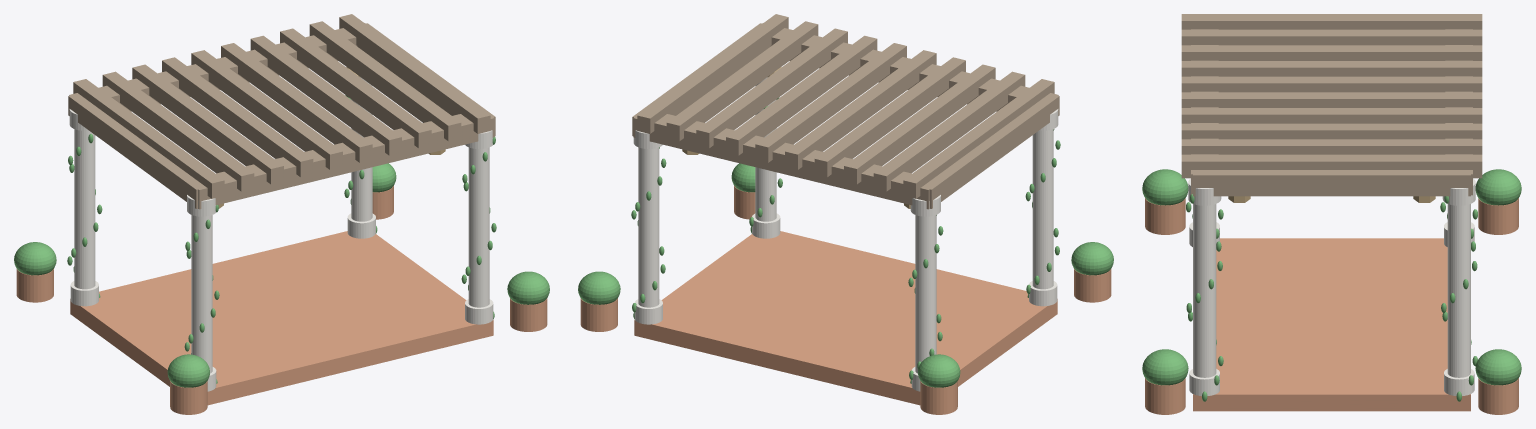
The picture shows the model from 3 angles, left to right: view 1: azimuth 30°, elevation 25°; view 2: azimuth 150°, elevation 25°; view 3: azimuth 270°, elevation 25°; orthographic projection. The views are drawn at different scales.
Parts seen in each view (by area): view 1: Tile_Floor, Main_Beam_Long_-1, Cross_Beam_9, Cross_Beam_2, Cross_Beam_3, Cross_Beam_5, Cross_Beam_8, Cross_Beam_10, Cross_Beam_7, Cross_Beam_6, Cross_Beam_4, Main_Beam_Trans_-1 (+18 smaller); view 2: Tile_Floor, Main_Beam_Long_1, Cross_Beam_9, Cross_Beam_2, Cross_Beam_3, Cross_Beam_5, Cross_Beam_8, Cross_Beam_10, Cross_Beam_7, Cross_Beam_6, Cross_Beam_4, Main_Beam_Trans_-1 (+18 smaller); view 3: Tile_Floor, Main_Beam_Trans_1, Cross_Beam_2, Cross_Beam_5, Cross_Beam_8, Cross_Beam_10, Cross_Beam_1, Cross_Beam_3, Cross_Beam_4, Cross_Beam_6, Cross_Beam_9, Cross_Beam_7 (+16 smaller).
Part boxes in pixels (<box>): Tile_Floor: <box>70,231,493,405</box>; Main_Beam_Long_-1: <box>187,110,494,209</box>; Cross_Beam_9: <box>309,21,461,141</box>; Cross_Beam_2: <box>102,71,254,191</box>; Cross_Beam_3: <box>132,64,283,184</box>; Cross_Beam_5: <box>191,50,342,169</box>; Cross_Beam_8: <box>280,28,431,148</box>; Cross_Beam_10: <box>339,14,490,133</box>; Cross_Beam_7: <box>250,35,401,155</box>; Cross_Beam_6: <box>221,43,372,162</box>; Cross_Beam_4: <box>162,57,313,177</box>; Main_Beam_Trans_-1: <box>68,93,205,208</box>; Tile_Floor: <box>634,231,1057,405</box>; Main_Beam_Long_1: <box>633,109,940,209</box>; Cross_Beam_9: <box>666,21,818,141</box>; Cross_Beam_2: <box>873,71,1025,191</box>; Cross_Beam_3: <box>844,64,995,184</box>; Cross_Beam_5: <box>785,50,936,169</box>; Cross_Beam_8: <box>696,28,847,148</box>; Cross_Beam_10: <box>637,14,788,133</box>; Cross_Beam_7: <box>726,35,877,155</box>; Cross_Beam_6: <box>755,43,906,162</box>; Cross_Beam_4: <box>814,57,965,177</box>; Main_Beam_Trans_-1: <box>922,93,1059,208</box>; Tile_Floor: <box>1193,238,1470,411</box>; Main_Beam_Trans_1: <box>1193,170,1470,196</box>; Cross_Beam_2: <box>1181,29,1482,45</box>; Cross_Beam_5: <box>1181,76,1482,92</box>; Cross_Beam_8: <box>1181,123,1482,139</box>; Cross_Beam_10: <box>1181,154,1482,178</box>; Cross_Beam_1: <box>1181,14,1482,29</box>; Cross_Beam_3: <box>1181,45,1482,60</box>; Cross_Beam_4: <box>1181,61,1482,76</box>; Cross_Beam_6: <box>1181,92,1482,107</box>; Cross_Beam_9: <box>1181,139,1482,154</box>; Cross_Beam_7: <box>1181,108,1482,123</box>.
Bounding box in the file's own units: 5.1 × 2.93 × 4.1.
